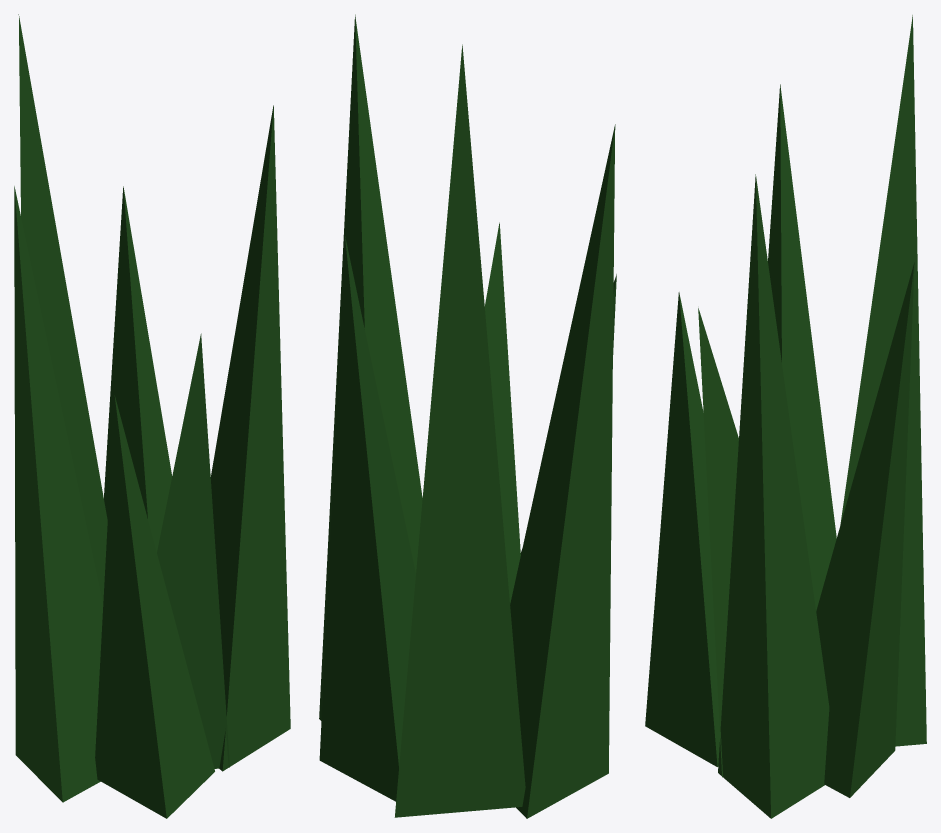
The model's file is Grass 3.fbx.
The picture shows the model from 3 angles, left to right: view 1: azimuth 30°, elevation 25°; view 2: azimuth 150°, elevation 25°; view 3: azimuth 270°, elevation 25°; orthographic projection. The views are drawn at different scales.
Parts seen in each view (by area): view 1: Grass 3; view 2: Grass 3; view 3: Grass 3.
Boxes of the visible parts, x1=… form: Grass 3: x1=14, y1=14, x2=290, y2=818; Grass 3: x1=319, y1=14, x2=616, y2=818; Grass 3: x1=645, y1=15, x2=926, y2=818.
Size of the model in its own units: 21.51 by 19.41 by 53.93.
